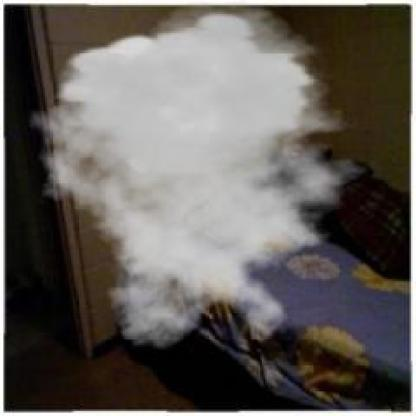Smoke: (22, 0, 386, 352)
